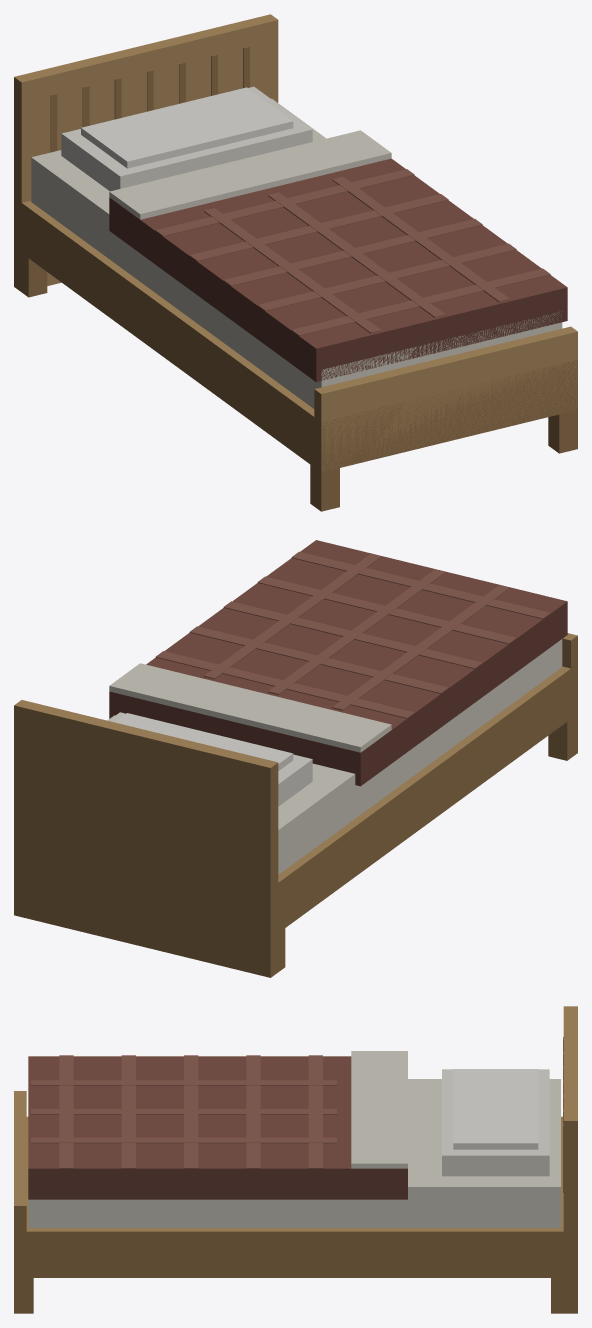
The model's file is bed.glb.
3 renders of one model, top to bottom at view 1: azimuth 30°, elevation 25°; view 2: azimuth 150°, elevation 25°; view 3: azimuth 270°, elevation 25°, orthographic. The views are drawn at different scales.
Visible parts, largest first — view 1: bed; view 2: bed; view 3: bed.
Part boxes in pixels (<box>): bed: <box>14,14,577,511</box>; bed: <box>14,540,577,977</box>; bed: <box>14,1006,577,1313</box>.
Size of the model in its own units: 0.9599 by 0.75 by 1.99.
